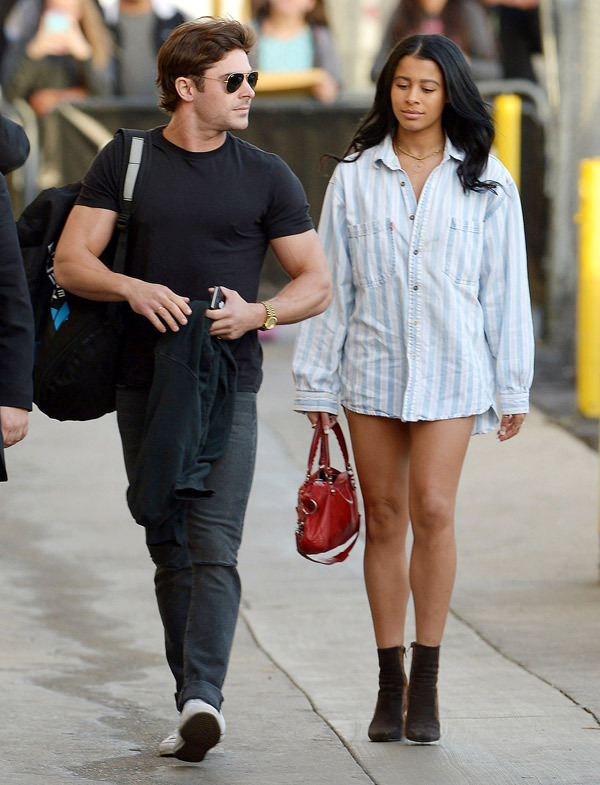Person: (50, 13, 335, 763), (292, 33, 541, 743)
